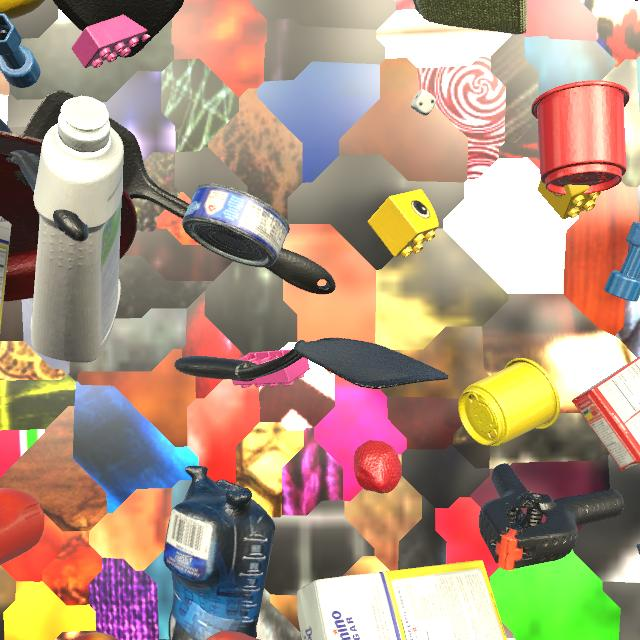ycb_004_sugar_box: (297, 560, 507, 640), (0, 216, 11, 332)
ycb_007_tuna_fish_can: (182, 183, 290, 267)
ycb_009_gelatin_box: (572, 357, 640, 471), (634, 0, 640, 1)
ycb_011_banana: (0, 0, 45, 19)
ycb_012_strawberry: (353, 440, 402, 493)
ycb_015_peach: (74, 632, 118, 640)
